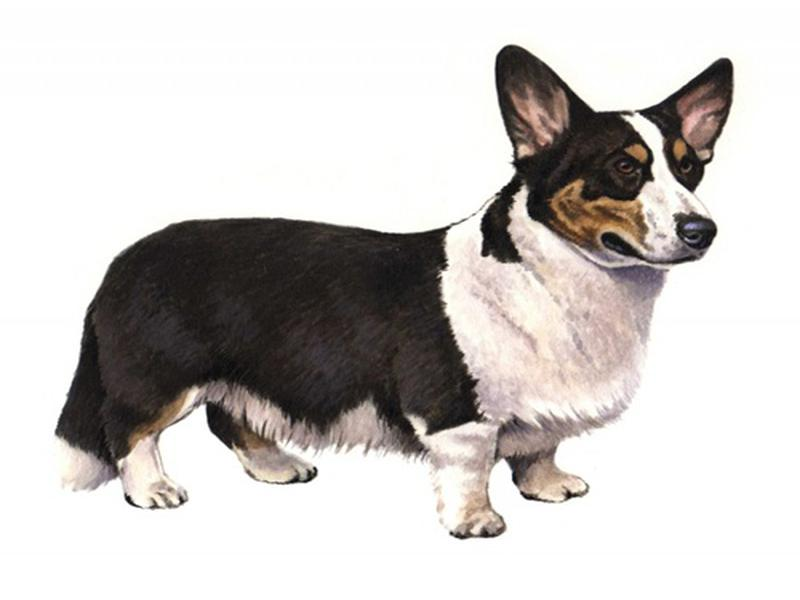corgi: (494, 44, 737, 274)
